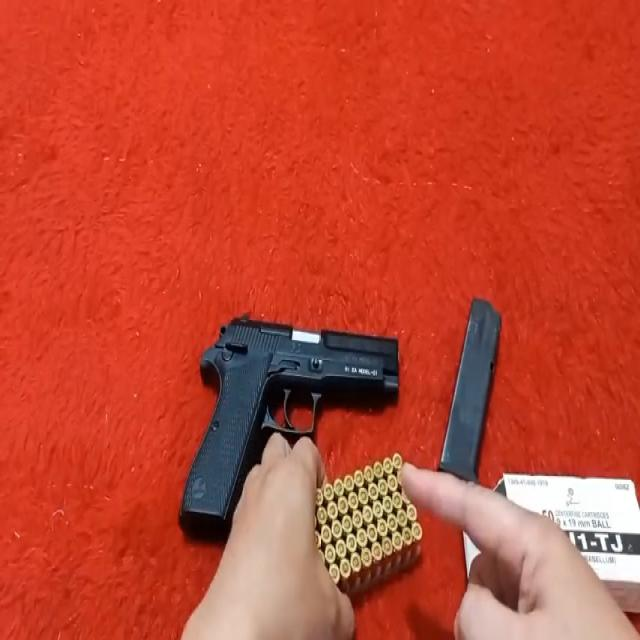handgun: (178, 311, 405, 538)
